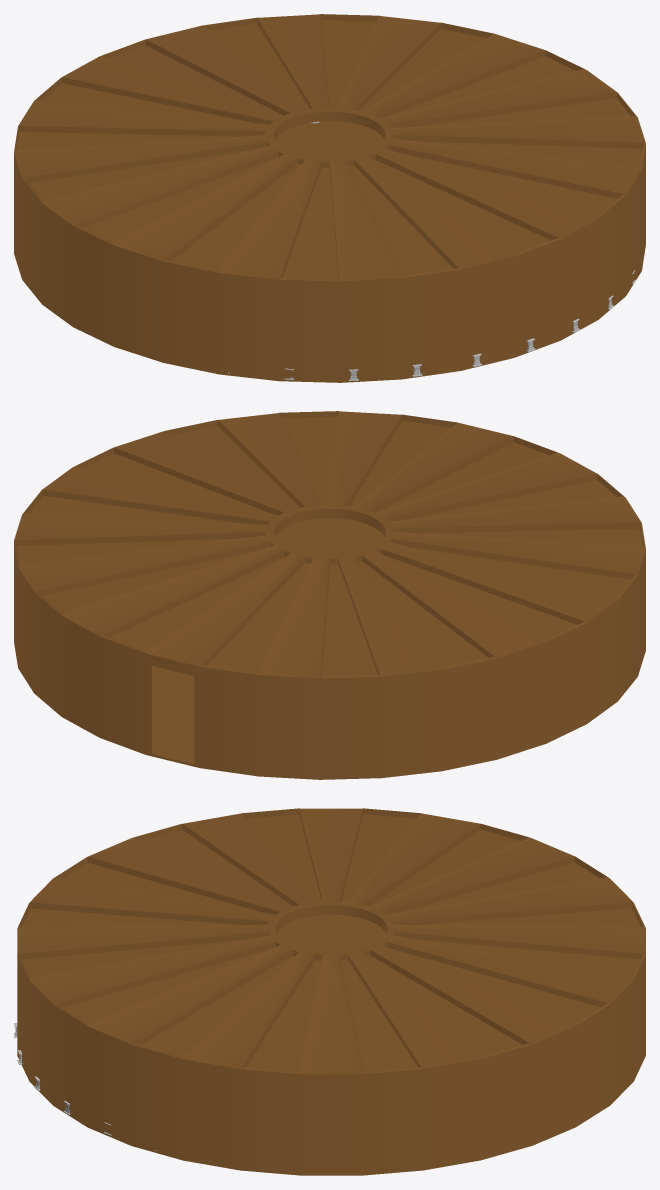
File: Gallery1Test2.glb
3 renders of one model, top to bottom at view 1: azimuth 30°, elevation 25°; view 2: azimuth 150°, elevation 25°; view 3: azimuth 270°, elevation 25°, orthographic.
Parts seen in each view (by area): view 1: Circle.009, Pedestal.007; view 2: Circle.009; view 3: Circle.009.
Boxes of the visible parts, x1,y1,x2,y2 form: Circle.009: (14,14,645,382); Pedestal.007: (227,121,643,381); Circle.009: (14,411,645,779); Circle.009: (17,808,645,1175).
Size of the model in its own units: 41.79 by 8.78 by 42.01.
Materials: 8 (4 with a texture image).
